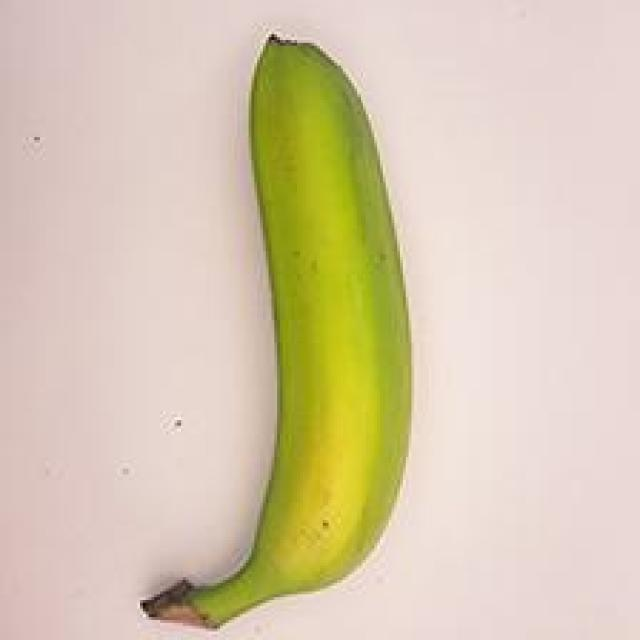Unripe: (103, 15, 448, 638)
